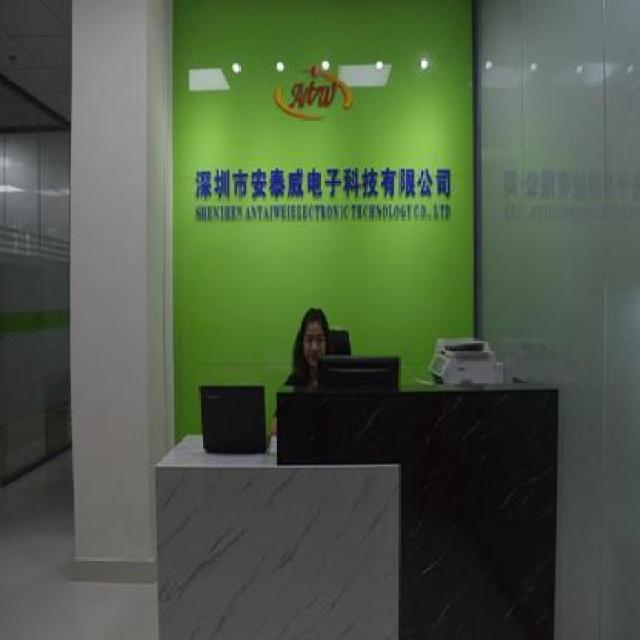frontdesk: (149, 361, 566, 640)
